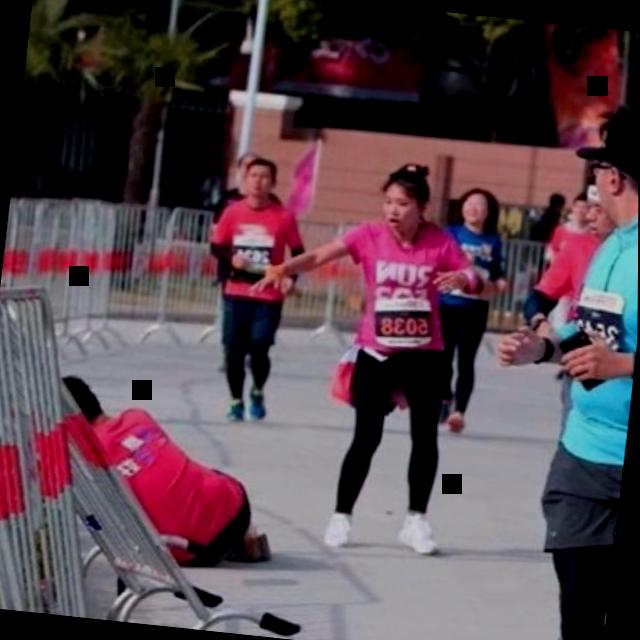Fall-Detected: (24, 348, 300, 592)
